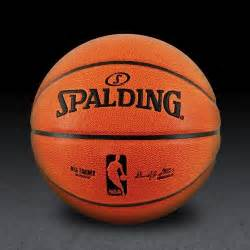basketball: (26, 32, 223, 227)
